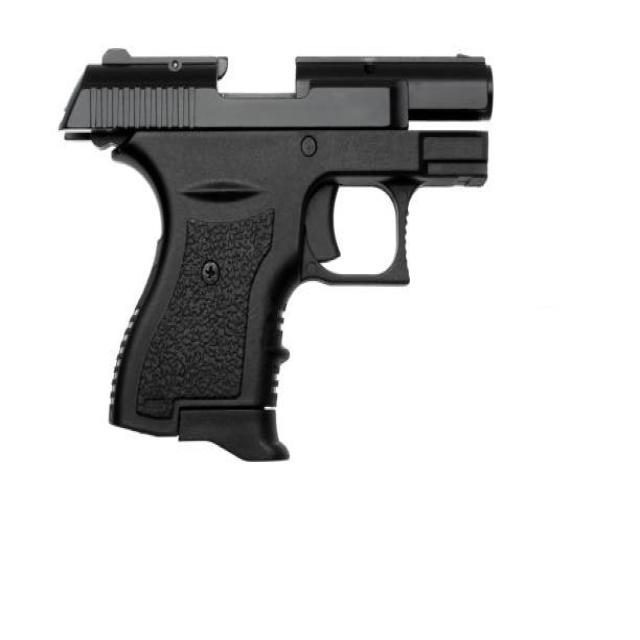pistol: (46, 42, 501, 471)
